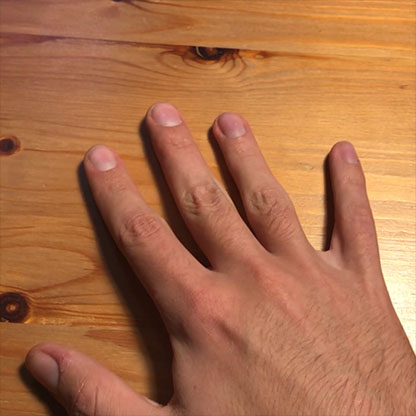fingertip: (204, 105, 257, 145), (144, 94, 193, 135), (80, 134, 124, 178), (331, 135, 368, 173)
